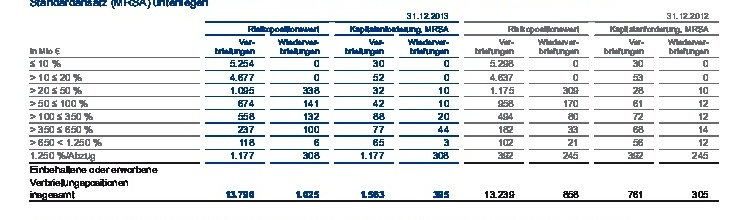table: (0, 0, 740, 220)
